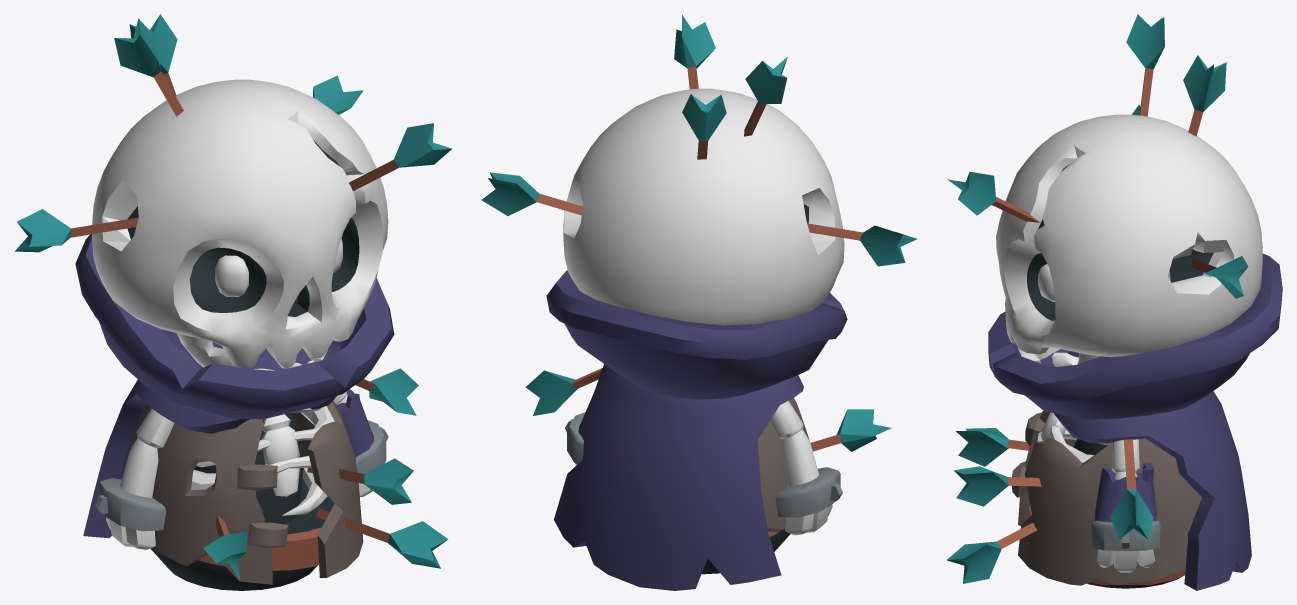
File: character_skeleton_mage_broken.dae
The picture shows the model from 3 angles, left to right: view 1: azimuth 30°, elevation 25°; view 2: azimuth 150°, elevation 25°; view 3: azimuth 270°, elevation 25°; orthographic projection. The views are drawn at different scales.
Parts seen in each view (by area): view 1: character_skeleton_mage_head_broken, character_skeleton_mage_body_broken, character_skeleton_mage_cowl_broken, character_skeleton_mage_armRight_broken, character_skeleton_mage_cloak_broken, character_skeleton_mage_armLeft_broken, character_skeleton_mage_eyes_broken, character_skeleton_mage_jaw_broken; view 2: character_skeleton_mage_head_broken, character_skeleton_mage_cloak_broken, character_skeleton_mage_cowl_broken, character_skeleton_mage_armRight_broken, character_skeleton_mage_body_broken, character_skeleton_mage_armLeft_broken; view 3: character_skeleton_mage_head_broken, character_skeleton_mage_body_broken, character_skeleton_mage_cowl_broken, character_skeleton_mage_cloak_broken, character_skeleton_mage_armLeft_broken, character_skeleton_mage_jaw_broken, character_skeleton_mage_eyes_broken.
Part boxes in pixels (bbox=[...]): character_skeleton_mage_head_broken: bbox=[14, 14, 451, 368]; character_skeleton_mage_body_broken: bbox=[130, 400, 448, 590]; character_skeleton_mage_cowl_broken: bbox=[75, 234, 394, 419]; character_skeleton_mage_armRight_broken: bbox=[95, 408, 174, 549]; character_skeleton_mage_cloak_broken: bbox=[83, 341, 336, 538]; character_skeleton_mage_armLeft_broken: bbox=[333, 368, 418, 496]; character_skeleton_mage_eyes_broken: bbox=[215, 238, 342, 296]; character_skeleton_mage_jaw_broken: bbox=[177, 333, 327, 370]; character_skeleton_mage_head_broken: bbox=[481, 14, 917, 325]; character_skeleton_mage_cloak_broken: bbox=[554, 364, 803, 590]; character_skeleton_mage_cowl_broken: bbox=[546, 270, 847, 399]; character_skeleton_mage_armRight_broken: bbox=[770, 400, 842, 535]; character_skeleton_mage_body_broken: bbox=[702, 398, 891, 574]; character_skeleton_mage_armLeft_broken: bbox=[525, 368, 602, 465]; character_skeleton_mage_head_broken: bbox=[947, 14, 1262, 356]; character_skeleton_mage_body_broken: bbox=[946, 410, 1201, 588]; character_skeleton_mage_cowl_broken: bbox=[988, 253, 1282, 419]; character_skeleton_mage_cloak_broken: bbox=[1054, 351, 1251, 590]; character_skeleton_mage_armLeft_broken: bbox=[1090, 439, 1160, 572]; character_skeleton_mage_jaw_broken: bbox=[1017, 346, 1100, 366]; character_skeleton_mage_eyes_broken: bbox=[1038, 264, 1054, 301].
Bounding box in the file's own units: 1.48 × 1.16 × 1.91.
